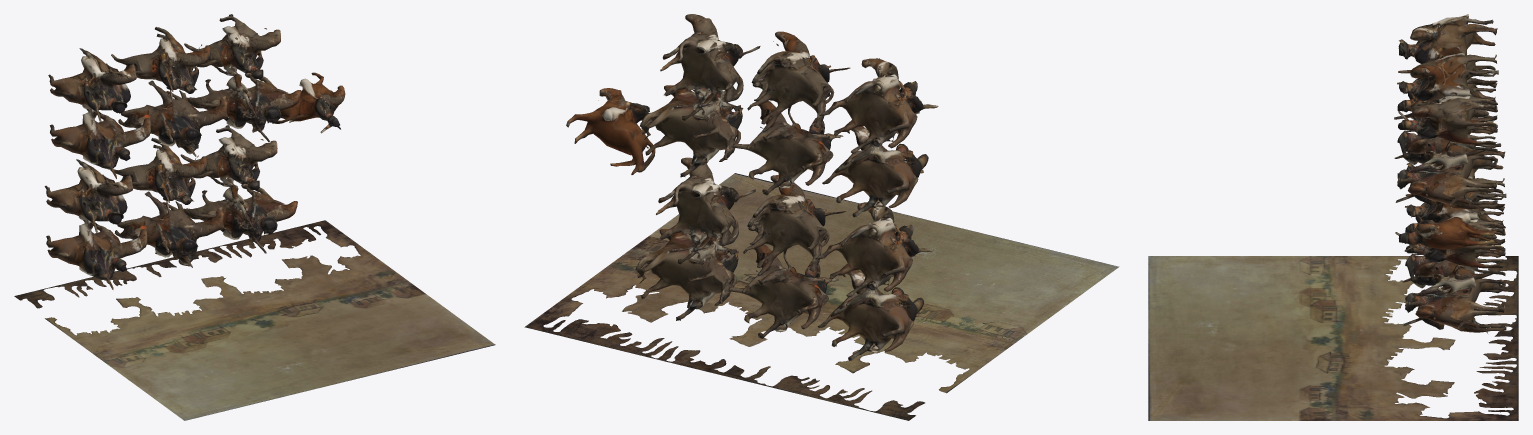
File: pichay3d.fbx
The picture shows the model from 3 angles, left to right: view 1: azimuth 30°, elevation 25°; view 2: azimuth 150°, elevation 25°; view 3: azimuth 270°, elevation 25°; orthographic projection. The views are drawn at different scales.
Parts seen in each view (by area): view 1: L01_Esteban, Mesh0.002, Mesh0.001; view 2: L01_Esteban, Mesh0.002, Mesh0.001; view 3: L01_Esteban, Mesh0.002, Mesh0.001.
Part boxes in pixels (bbox=[...]): L01_Esteban: bbox=[14, 220, 495, 420]; Mesh0.002: bbox=[48, 14, 345, 178]; Mesh0.001: bbox=[44, 125, 297, 289]; L01_Esteban: bbox=[524, 173, 1119, 420]; Mesh0.002: bbox=[566, 14, 938, 217]; Mesh0.001: bbox=[635, 157, 933, 360]; L01_Esteban: bbox=[1148, 256, 1518, 420]; Mesh0.002: bbox=[1394, 14, 1498, 251]; Mesh0.001: bbox=[1402, 139, 1506, 333].
Size of the model in its own units: 105 by 80.16 by 100.
